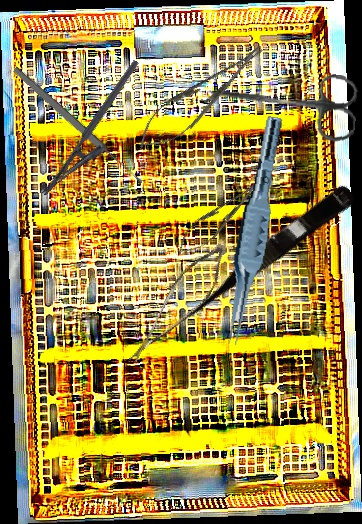Iris Scissors: (203, 61, 361, 144)
Micro Scissor: (171, 179, 358, 330), (127, 230, 233, 383)
Needle Holder: (128, 34, 274, 161), (40, 59, 158, 209), (170, 171, 270, 263)
Surgical Spoon: (11, 65, 145, 187)
Tissue Forceps: (221, 113, 284, 348)
